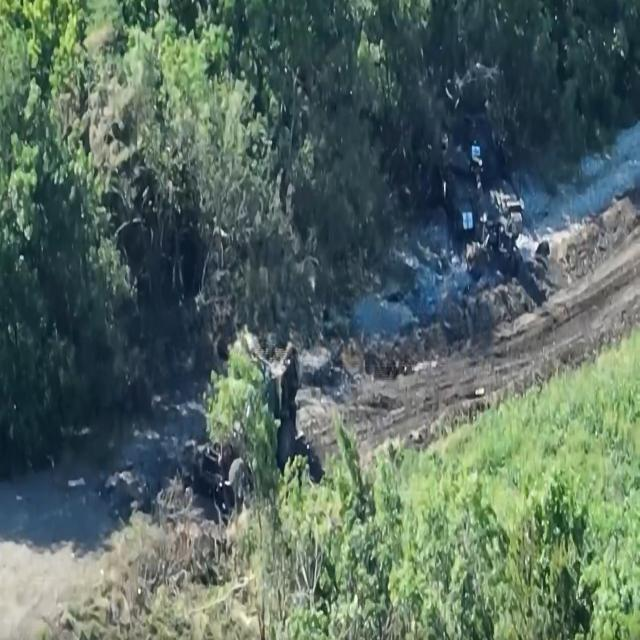MBT: (443, 105, 527, 258)
Vehicle: (193, 337, 304, 507)
